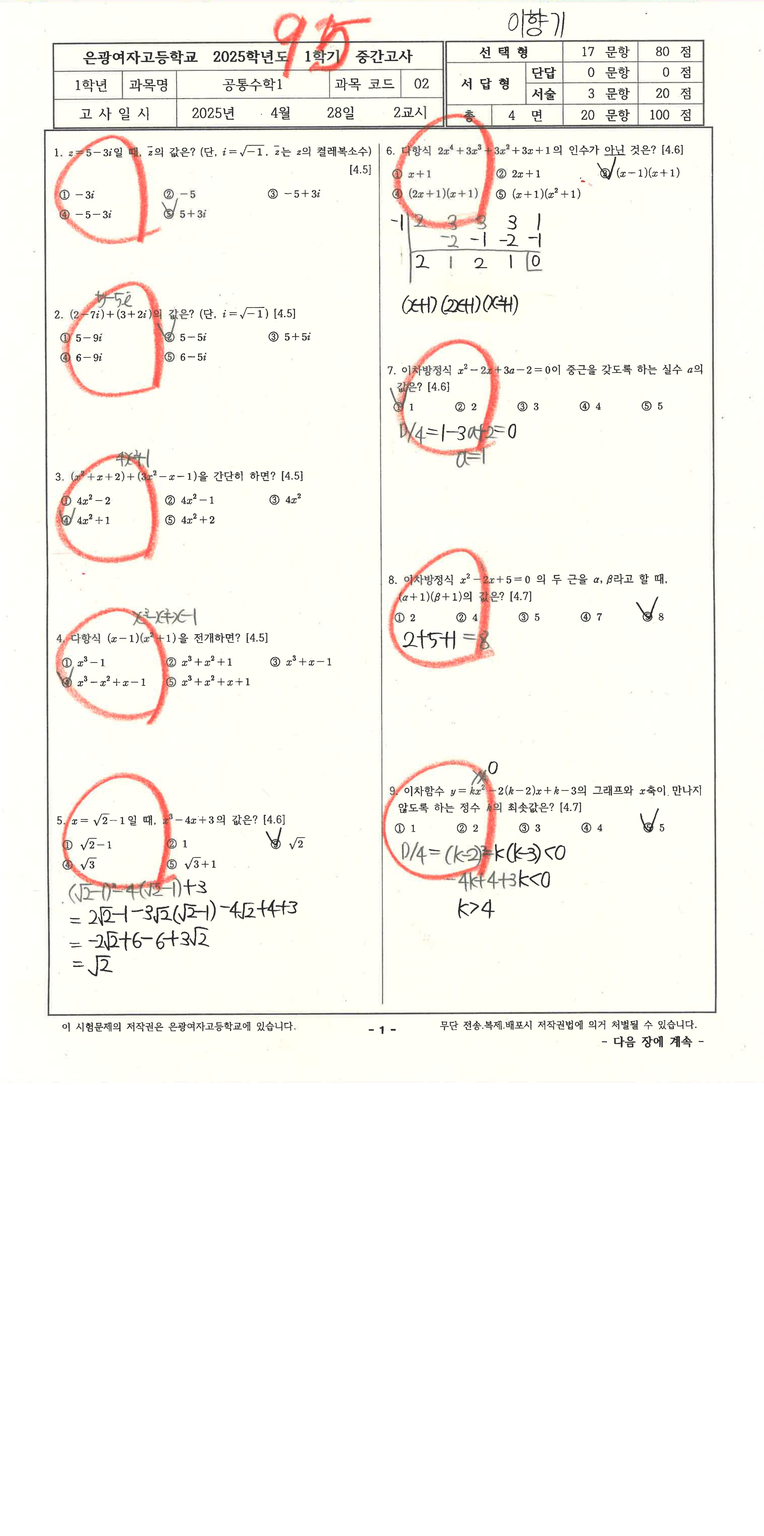problem: (50, 138, 374, 232), (50, 299, 371, 381), (50, 464, 370, 545), (52, 629, 372, 703), (382, 133, 692, 205), (55, 807, 373, 872), (384, 358, 707, 417), (385, 565, 688, 625), (386, 784, 707, 836)
